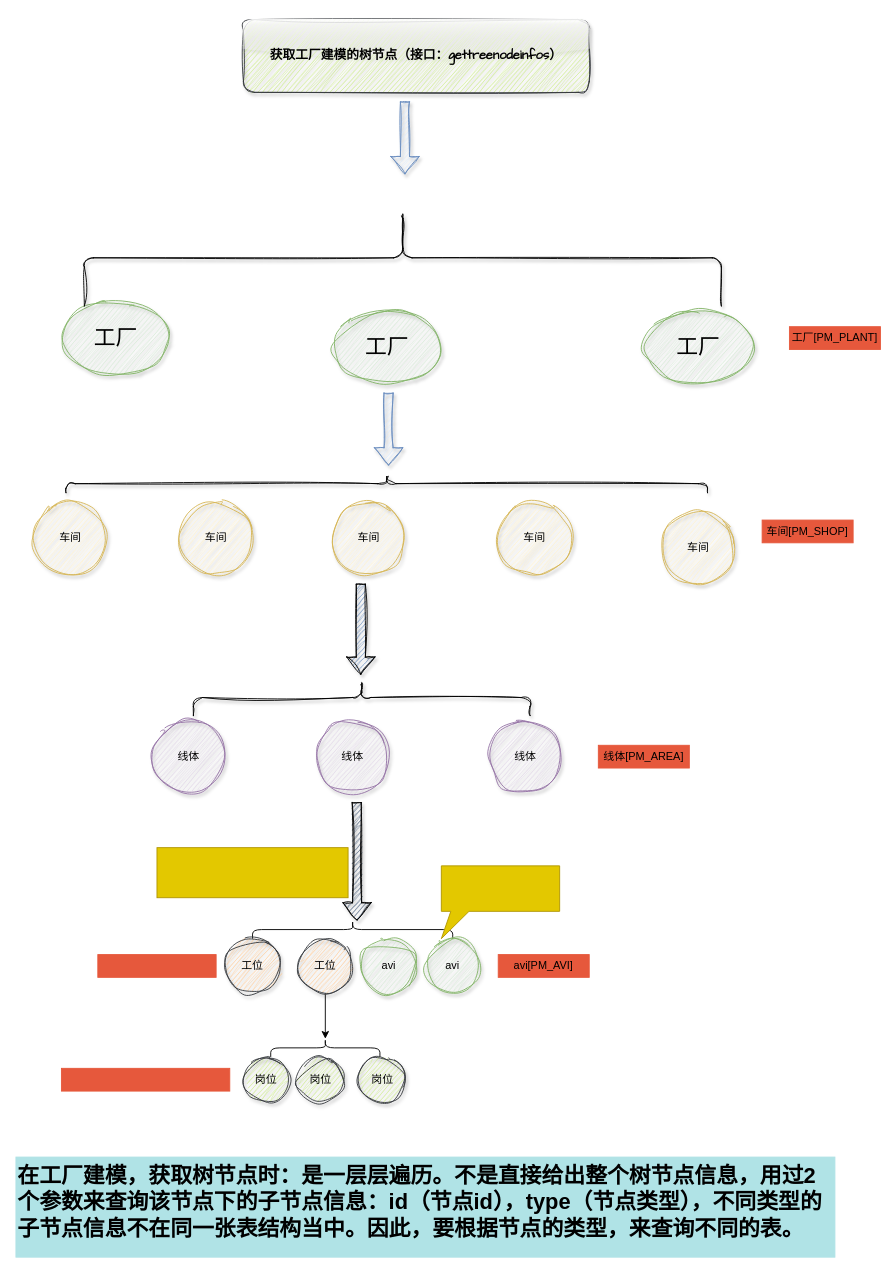
This 896x1276 diagram has some shape labels left out. The shapes that lost their labels are listed below. From the top down, each one's centre as x and y in pixels, then its label:
At point 252,872: "工位和AVI是同级别的".
At point 500,902: "avi没有子节点".
At point 156,965: "工位[PM_STATION]".
At point 145,1079: "岗位[PM_WORKPLACE]".
